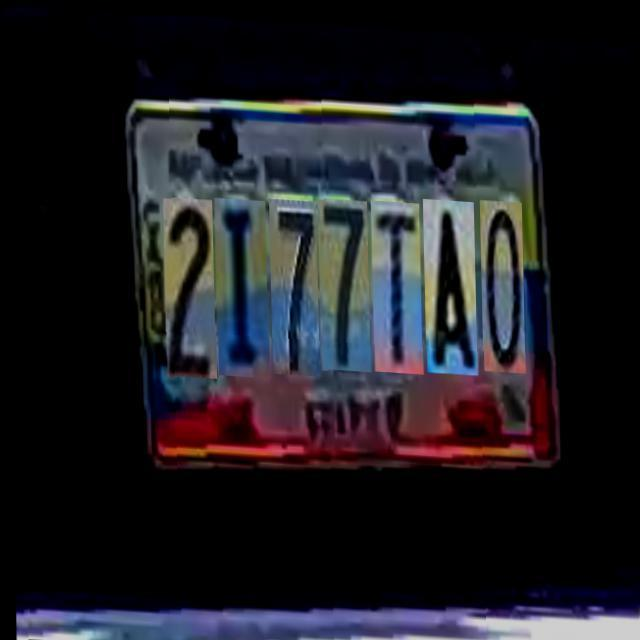2: (162, 192, 215, 373)
7: (316, 192, 368, 366), (268, 192, 318, 370)
A: (422, 192, 476, 368)
I: (213, 192, 267, 372)
O: (479, 194, 524, 366)
T: (370, 194, 421, 368)
